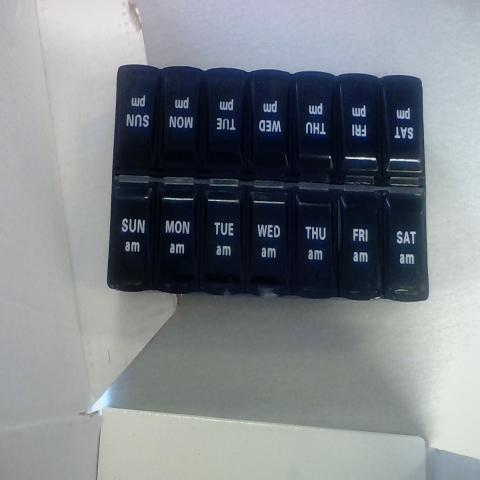FRI-am: (345, 196, 381, 290)
FRI-pm: (341, 78, 379, 186)
MON-am: (153, 182, 197, 285)
MON-pm: (162, 67, 202, 178)
SAT-am: (386, 196, 426, 292)
SAT-pm: (384, 75, 422, 185)
SUN-am: (115, 184, 150, 281)
SUN-pm: (119, 67, 157, 179)
THU-am: (296, 196, 336, 292)
THU-pm: (294, 71, 334, 179)
TUE-am: (202, 181, 242, 284)
TUE-pm: (202, 67, 244, 178)
WED-am: (247, 186, 288, 290)
WED-pm: (250, 71, 292, 183)
